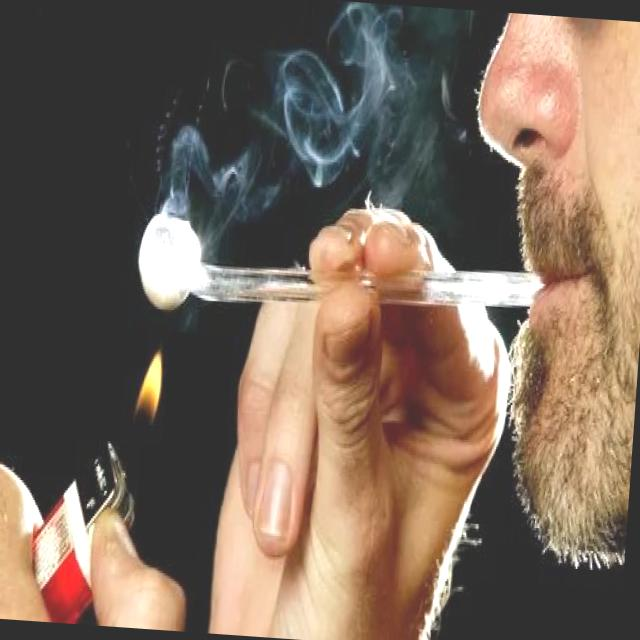cigarette: (127, 204, 555, 338)
